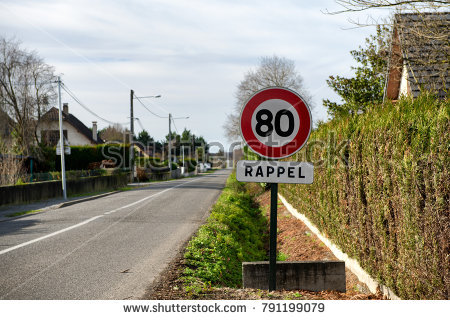Speed_limit_80km: (240, 86, 312, 158)
